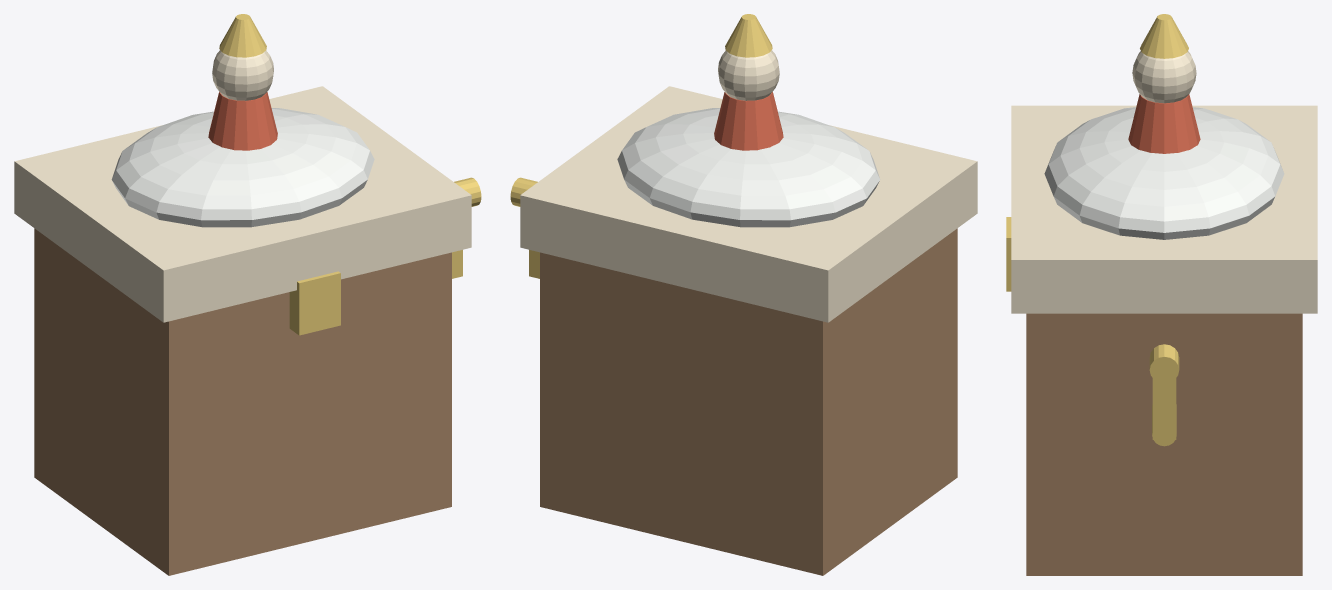
Rendered from music-box.glb.
The picture shows the model from 3 angles, left to right: view 1: azimuth 30°, elevation 25°; view 2: azimuth 150°, elevation 25°; view 3: azimuth 270°, elevation 25°; orthographic projection. The views are drawn at different scales.
Visible parts, largest first — view 1: musicbox_body, musicbox_lid, musicbox_snow_cap, musicbox_figure_dress, musicbox_clasp, musicbox_figure_head, musicbox_figure_hat; view 2: musicbox_body, musicbox_lid, musicbox_snow_cap, musicbox_figure_dress, musicbox_figure_head, musicbox_figure_hat; view 3: musicbox_body, musicbox_lid, musicbox_snow_cap, musicbox_figure_dress, musicbox_figure_head, musicbox_figure_hat, musicbox_crank_arm, musicbox_crank_handle, musicbox_clasp.
Part boxes in pixels (bbox=[...]): musicbox_body: bbox=[34, 228, 451, 575]; musicbox_lid: bbox=[14, 86, 471, 322]; musicbox_snow_cap: bbox=[111, 108, 374, 227]; musicbox_figure_dress: bbox=[208, 92, 277, 150]; musicbox_clasp: bbox=[289, 271, 340, 335]; musicbox_figure_head: bbox=[212, 50, 273, 100]; musicbox_figure_hat: bbox=[219, 14, 266, 57]; musicbox_body: bbox=[540, 228, 957, 575]; musicbox_lid: bbox=[520, 86, 977, 322]; musicbox_snow_cap: bbox=[617, 108, 880, 227]; musicbox_figure_dress: bbox=[714, 92, 783, 150]; musicbox_figure_head: bbox=[718, 50, 779, 100]; musicbox_figure_hat: bbox=[725, 14, 772, 57]; musicbox_body: bbox=[1026, 313, 1302, 575]; musicbox_lid: bbox=[1011, 105, 1317, 313]; musicbox_snow_cap: bbox=[1044, 107, 1284, 239]; musicbox_figure_dress: bbox=[1128, 94, 1200, 153]; musicbox_figure_head: bbox=[1132, 51, 1196, 103]; musicbox_figure_hat: bbox=[1140, 14, 1188, 58]; musicbox_crank_arm: bbox=[1152, 378, 1176, 439]; musicbox_crank_handle: bbox=[1149, 344, 1179, 383]; musicbox_clasp: bbox=[1006, 217, 1011, 291].
Size of the model in its own units: 0.925 by 1.09 by 0.63.
